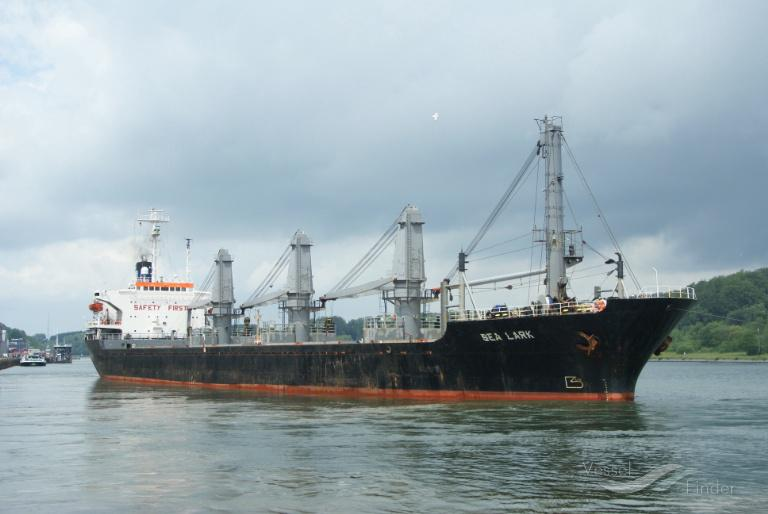OCR: (469, 328, 539, 346)
